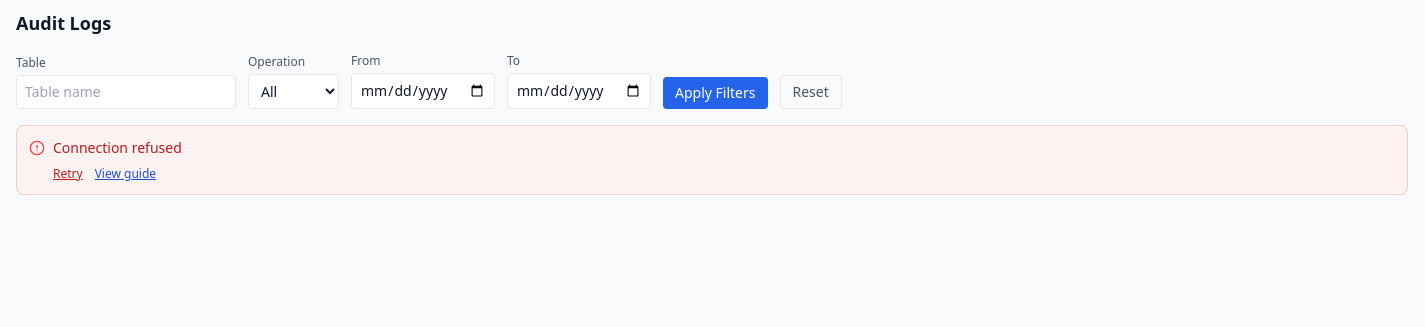
Test: AuditLogs › keeps filters mounted and retries the exact fetch failure
Expected: the text "Connection refused" is shown, x1=53 y1=138 x2=182 y2=158
Expected: the button "Apply Filters" is shown, x1=663 y1=77 x2=768 y2=109
Step 1. Click the button "Retry" → (68, 174), box x1=53 y1=166 x2=83 y2=182
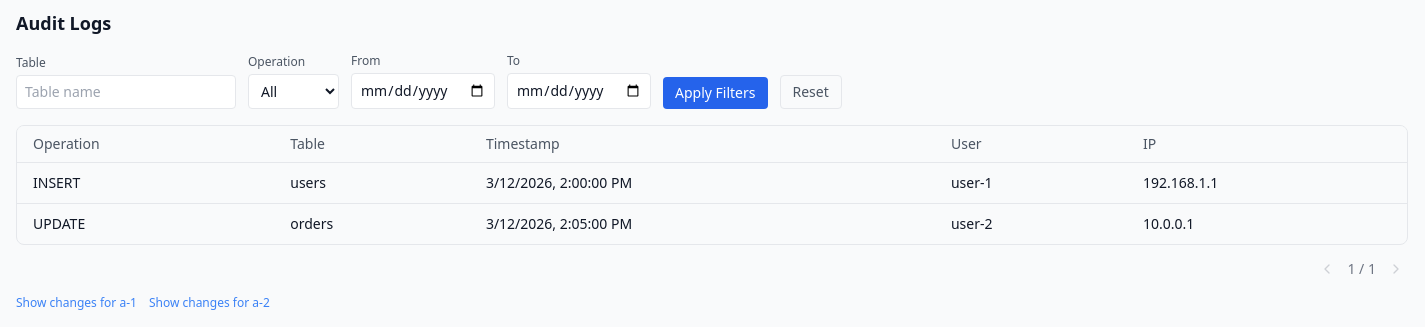
Result: the text "users" is shown at x1=274 y1=162 x2=470 y2=204
